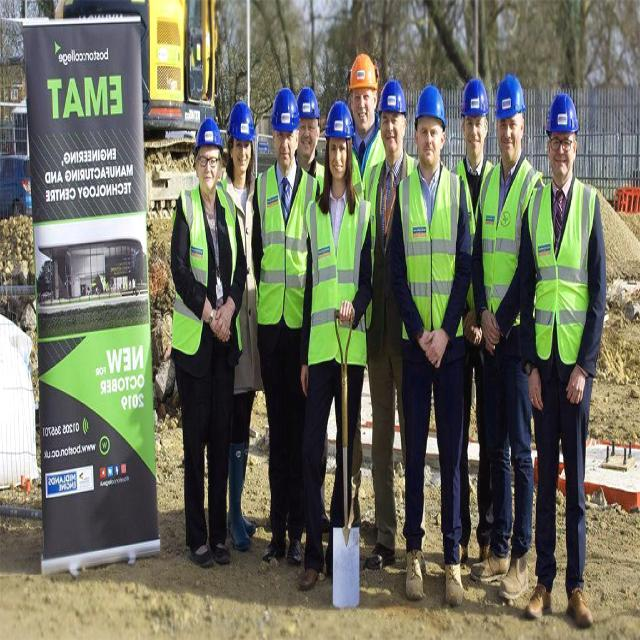boots: (225, 444, 252, 554)
face_nomask: (274, 123, 298, 172), (194, 148, 218, 196), (379, 110, 406, 152), (416, 120, 442, 162), (351, 88, 374, 135), (550, 136, 572, 184), (500, 116, 521, 166), (330, 134, 350, 178), (464, 112, 484, 150), (232, 138, 252, 174), (298, 122, 316, 160)
glasses: (550, 136, 576, 154), (197, 153, 219, 171)
hand_noglove: (202, 288, 240, 348), (414, 313, 449, 372), (478, 302, 502, 358), (562, 369, 587, 414), (526, 366, 550, 410), (334, 298, 357, 334), (299, 352, 312, 399)
head_helmet: (546, 90, 581, 136), (494, 72, 526, 120), (414, 83, 446, 129), (459, 75, 490, 119), (270, 91, 298, 136), (325, 98, 356, 138), (378, 78, 409, 116), (229, 99, 257, 140), (194, 117, 223, 154), (349, 53, 378, 90), (297, 87, 321, 124)
person: (530, 80, 612, 618), (471, 75, 543, 602), (396, 85, 468, 598), (300, 102, 370, 593), (254, 88, 320, 563), (173, 120, 236, 562), (361, 79, 413, 572), (222, 98, 259, 546), (450, 78, 493, 232), (350, 58, 382, 194)
shoes: (498, 546, 533, 606), (467, 540, 512, 585), (363, 532, 399, 577), (402, 549, 427, 605), (296, 552, 326, 598), (566, 586, 596, 630), (260, 523, 288, 568), (443, 552, 465, 609), (528, 582, 554, 623)
vest: (530, 175, 598, 358), (306, 190, 370, 373), (171, 184, 236, 350), (481, 154, 542, 321), (402, 170, 459, 348), (254, 168, 310, 328), (350, 116, 384, 186)
